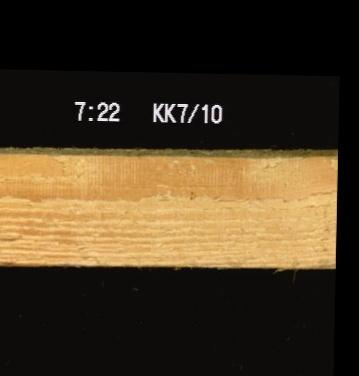split: (146, 174, 250, 188)
